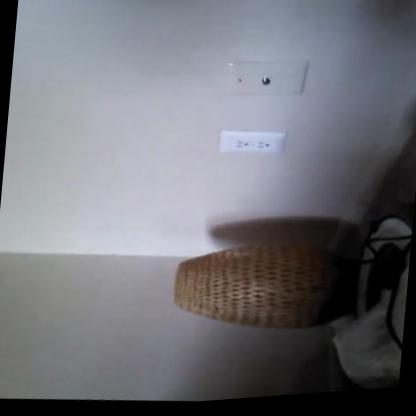OUTLET: (217, 125, 285, 158)
